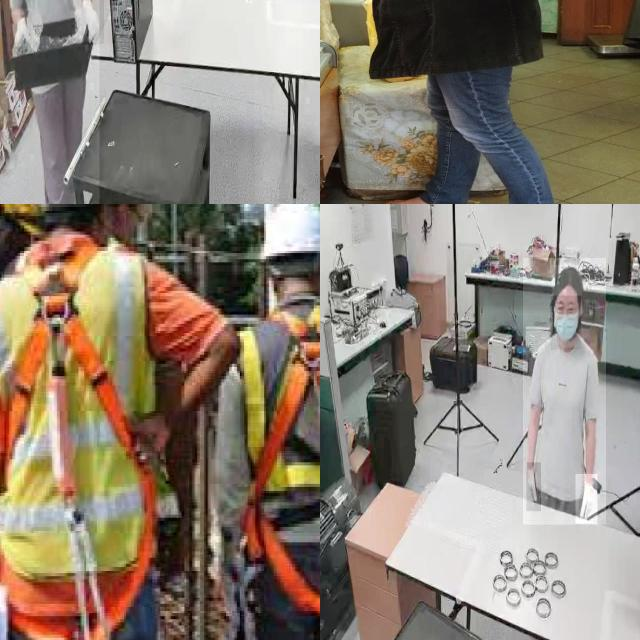Barefoots: (366, 197, 464, 204)
Harness: (0, 247, 162, 640), (236, 297, 320, 616)
face_mask: (551, 296, 581, 350), (576, 474, 598, 524), (526, 462, 542, 512)
hand_glove: (81, 0, 104, 44), (10, 15, 32, 56)
head_nohelmet: (552, 265, 582, 296)
person: (523, 258, 607, 525), (0, 0, 100, 204)
